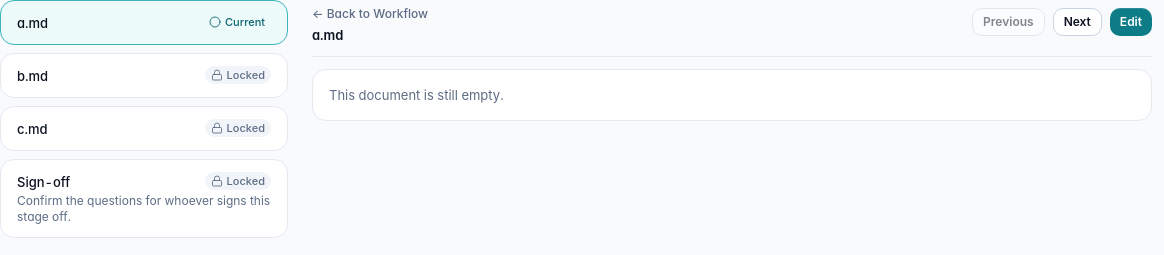
Test: WorkflowTab — spec 0018: Previous/Next move between documents without leaving the Workflow tab › clicking Next moves the panel to the adjacent document in declared order, and Previous moves back
Expected: the heading "a.md" is shown, x1=312 y1=27 x2=343 y2=43
Expected: the number of list items with test id "workflow-step" is 4, x1=0 y1=0 x2=288 y2=45; x1=0 y1=53 x2=288 y2=98; x1=0 y1=106 x2=288 y2=151; x1=0 y1=159 x2=288 y2=238
What coordinates should you click on to do the following:
click the button "Next"
I would click on:
 (1077, 22)
Its box is x1=1053 y1=8 x2=1102 y2=36.
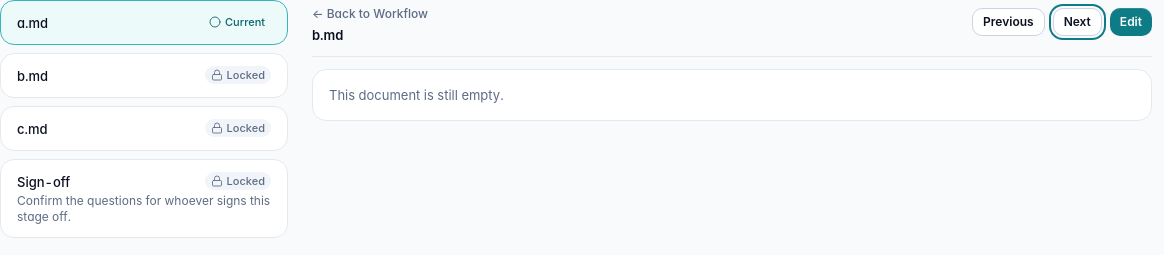
Expected: the number of list items with test id "workflow-step" is 4, x1=0 y1=0 x2=288 y2=45; x1=0 y1=53 x2=288 y2=98; x1=0 y1=106 x2=288 y2=151; x1=0 y1=159 x2=288 y2=238
Expected: the heading "b.md" is shown, x1=312 y1=27 x2=343 y2=43
What coordinates should you click on to do the following:
click the button "Previous"
I would click on:
 (1008, 22)
Its box is x1=972 y1=8 x2=1045 y2=36.
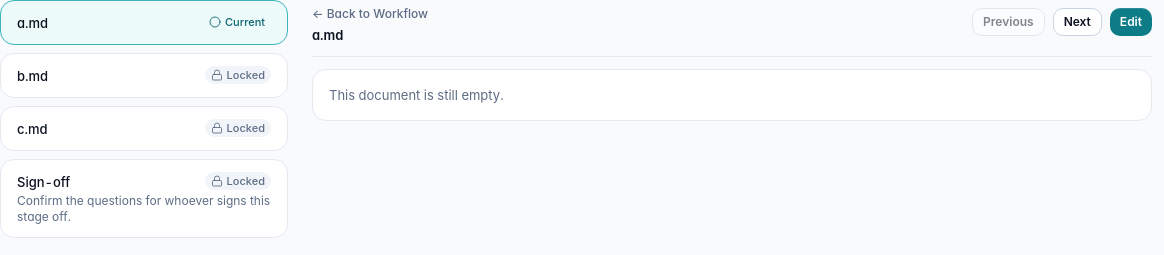
Expected: the heading "a.md" is shown, x1=312 y1=27 x2=343 y2=43
